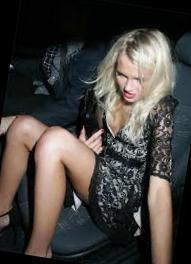Drunk: (113, 54, 148, 103)
